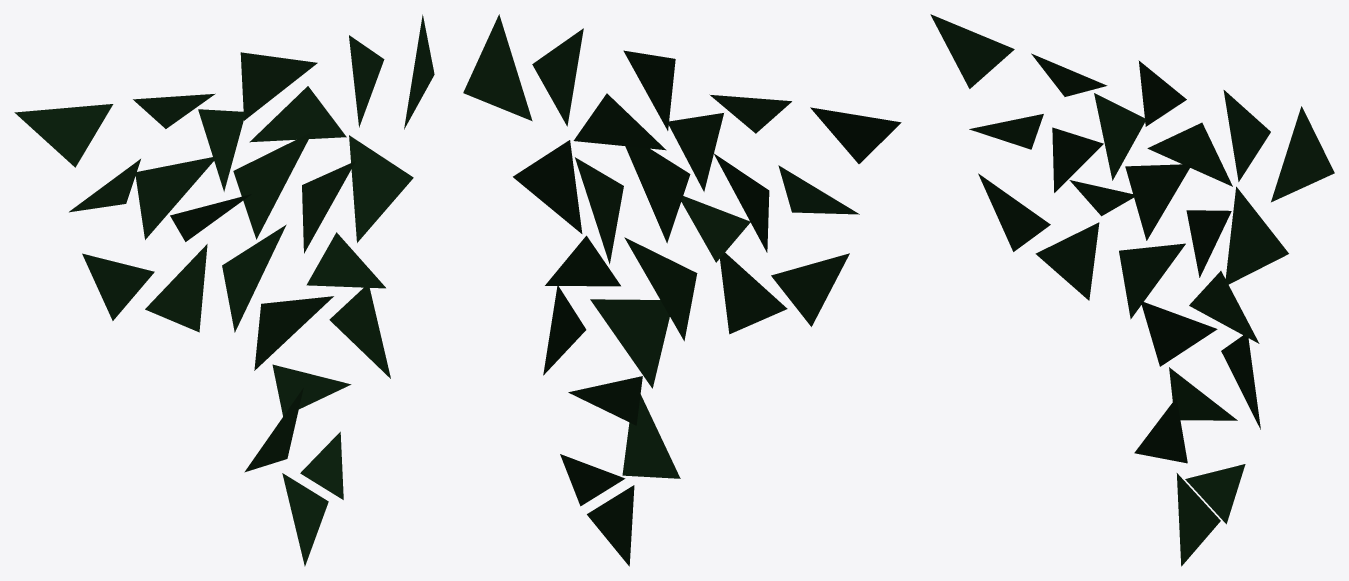
Rendered from Ivy2.obj.
3 views of the same model, side by side, from view 1: azimuth 30°, elevation 25°; view 2: azimuth 150°, elevation 25°; view 3: azimuth 330°, elevation 25° (orthographic). The views are drawn at different scales.
Parts seen in each view (by area): view 1: Ivy_2; view 2: Ivy_2; view 3: Ivy_2.
Boxes of the visible parts, x1,y1,x2,y2 form: Ivy_2: (14,14,434,566); Ivy_2: (463,14,901,566); Ivy_2: (930,14,1334,566).
Size of the model in its own units: 3.26 by 3.81 by 0.274.
